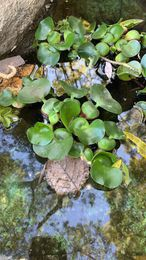water_hyacinth: (16, 6, 146, 201)
